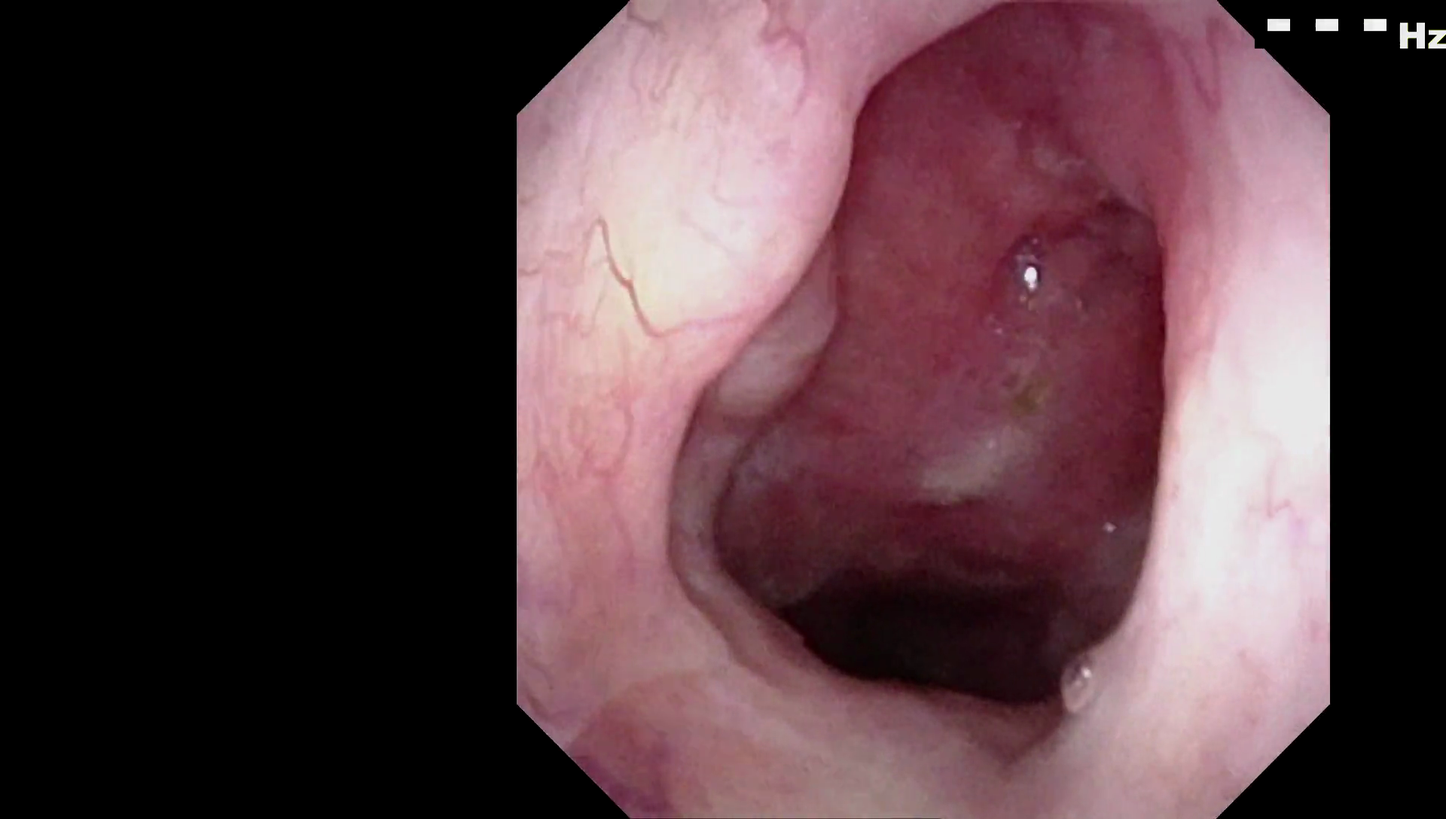next: (736, 507, 1090, 735)
